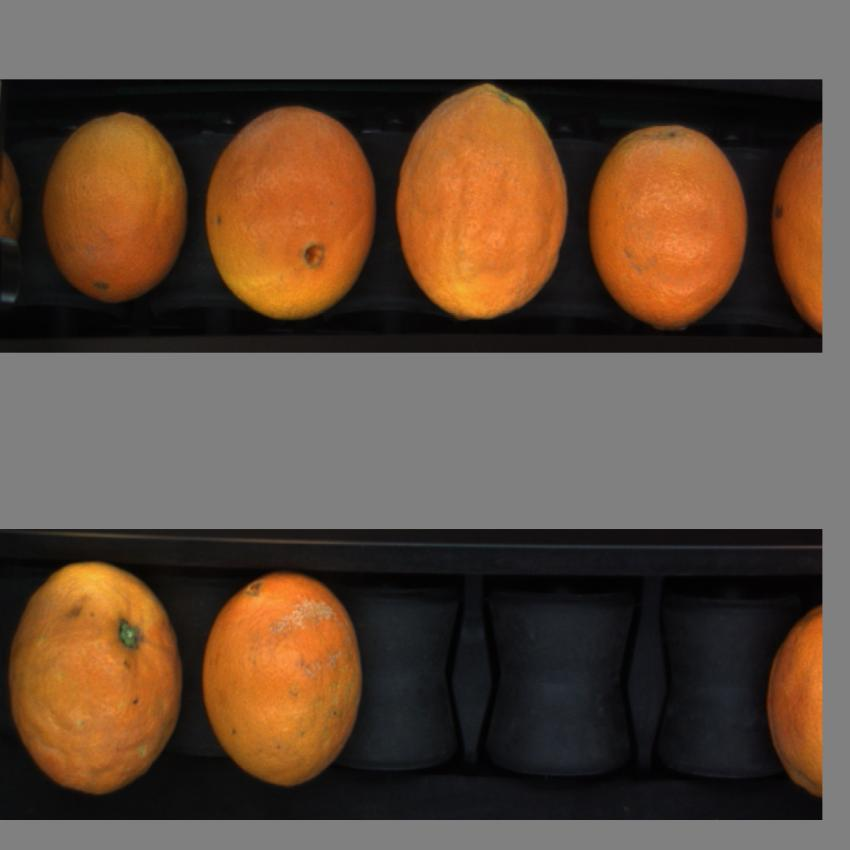Buen estado: (398, 84, 571, 324), (201, 563, 368, 804), (205, 99, 379, 320), (36, 94, 194, 308), (767, 117, 821, 339)
Mal estado: (9, 550, 192, 798), (590, 120, 756, 331), (756, 606, 823, 804)
